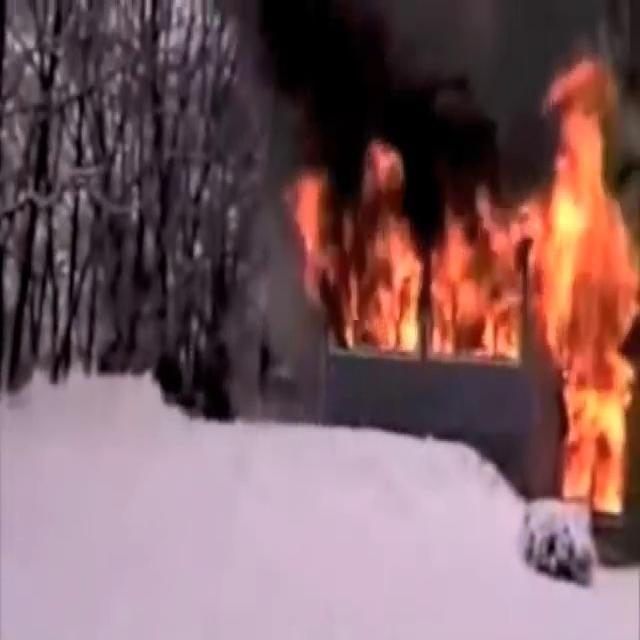Fire: (297, 157, 546, 373), (536, 40, 640, 515)
Smoke: (222, 0, 581, 215)
